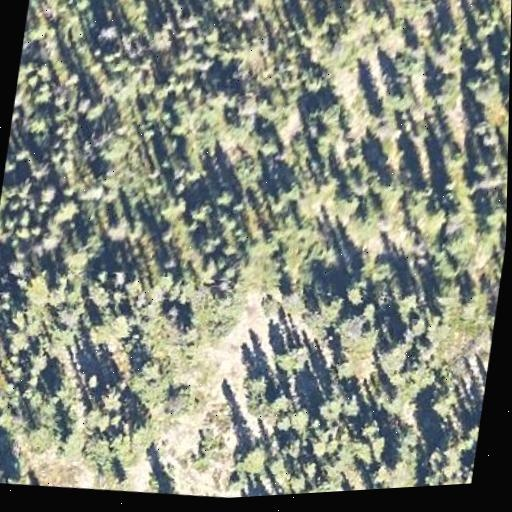tree-top: (82, 305, 135, 353), (423, 431, 469, 486), (127, 349, 174, 401), (78, 423, 123, 471), (304, 283, 345, 330), (272, 331, 314, 375), (420, 378, 461, 419), (402, 175, 443, 216), (233, 435, 273, 477), (310, 89, 350, 131), (93, 125, 132, 167), (371, 337, 410, 378), (428, 67, 466, 109), (278, 398, 318, 437), (429, 17, 467, 58), (382, 76, 421, 115), (433, 140, 470, 179), (371, 167, 408, 205), (82, 274, 118, 310), (19, 105, 55, 139), (101, 210, 136, 244), (96, 378, 129, 412), (391, 286, 424, 320), (341, 273, 373, 308), (0, 247, 32, 281), (298, 63, 330, 96), (193, 223, 225, 255), (50, 192, 81, 224), (241, 365, 272, 396), (21, 346, 51, 378), (0, 460, 35, 487), (253, 131, 283, 161), (463, 67, 493, 96), (95, 16, 124, 45), (173, 316, 201, 346), (470, 46, 498, 75), (34, 178, 61, 208), (213, 183, 241, 210), (468, 405, 482, 442), (363, 476, 395, 490), (204, 0, 237, 12), (73, 0, 97, 14)
